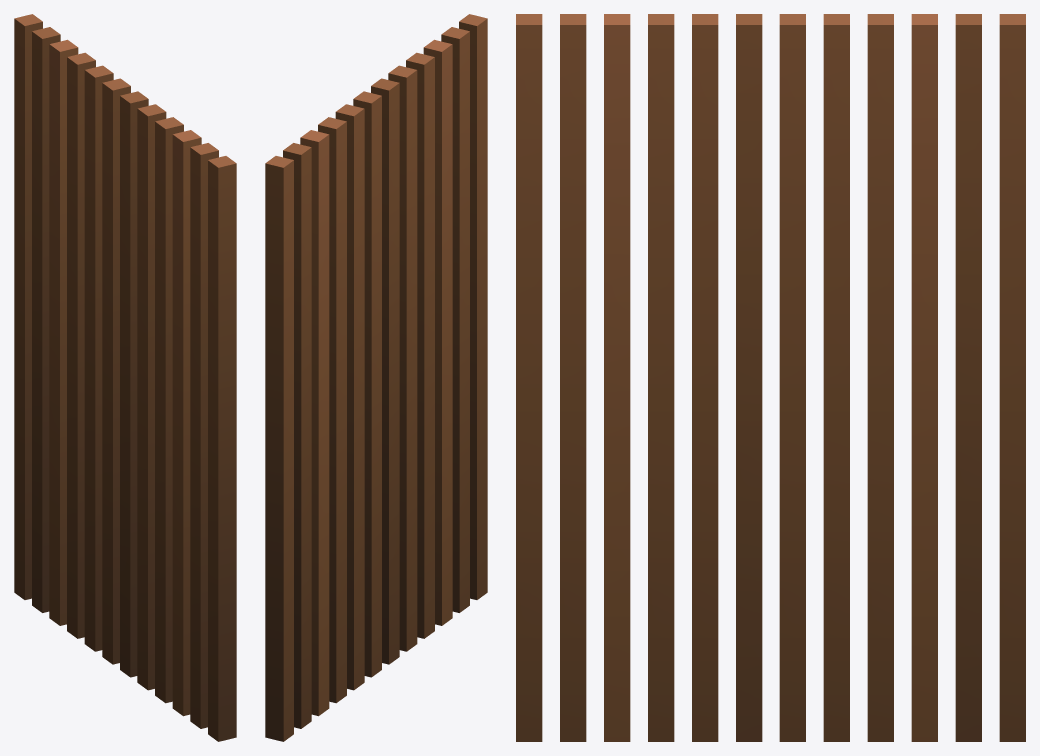
The model's file is TSP_Interior_Wall_Regular_01A.fbx.
3 views of the same model, side by side, from view 1: azimuth 30°, elevation 25°; view 2: azimuth 150°, elevation 25°; view 3: azimuth 270°, elevation 25° (orthographic). The views are drawn at different scales.
Parts seen in each view (by area): view 1: TSP_Interior_Wall_Regular_01A; view 2: TSP_Interior_Wall_Regular_01A; view 3: TSP_Interior_Wall_Regular_01A.
Boxes of the visible parts, x1,y1,x2,y2 form: TSP_Interior_Wall_Regular_01A: (14, 14, 236, 741); TSP_Interior_Wall_Regular_01A: (265, 14, 487, 741); TSP_Interior_Wall_Regular_01A: (516, 14, 1025, 741).
Bounding box in the file's own units: 0.1 × 3 × 1.93.
